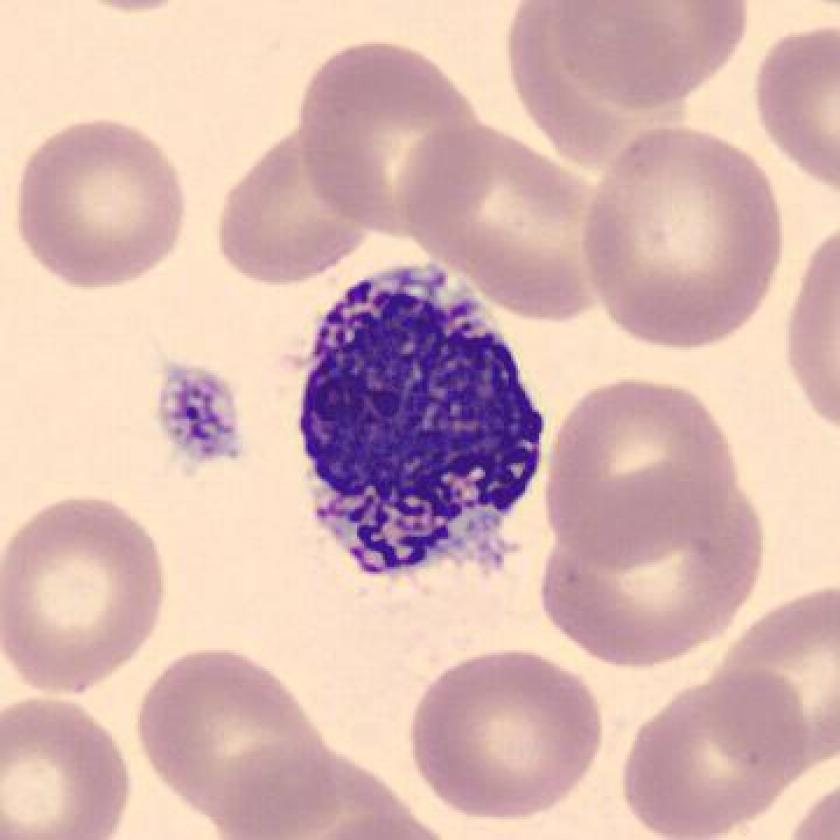basophil: (281, 262, 559, 589)
